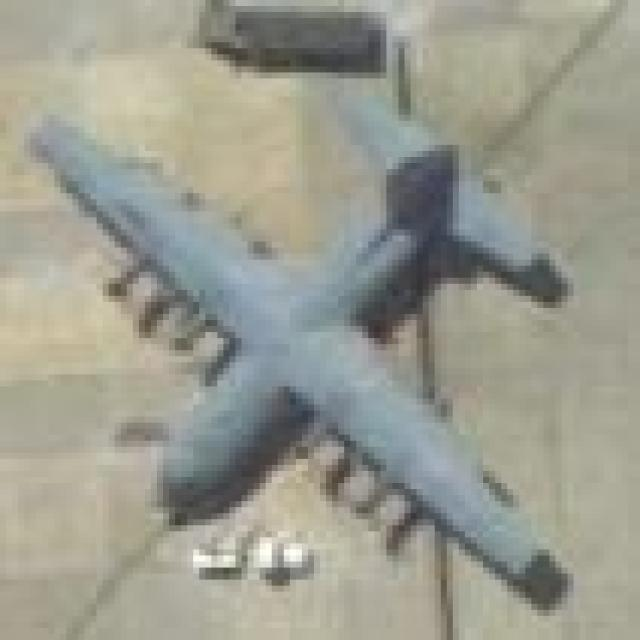C-130_TopDown: (25, 93, 587, 622)
